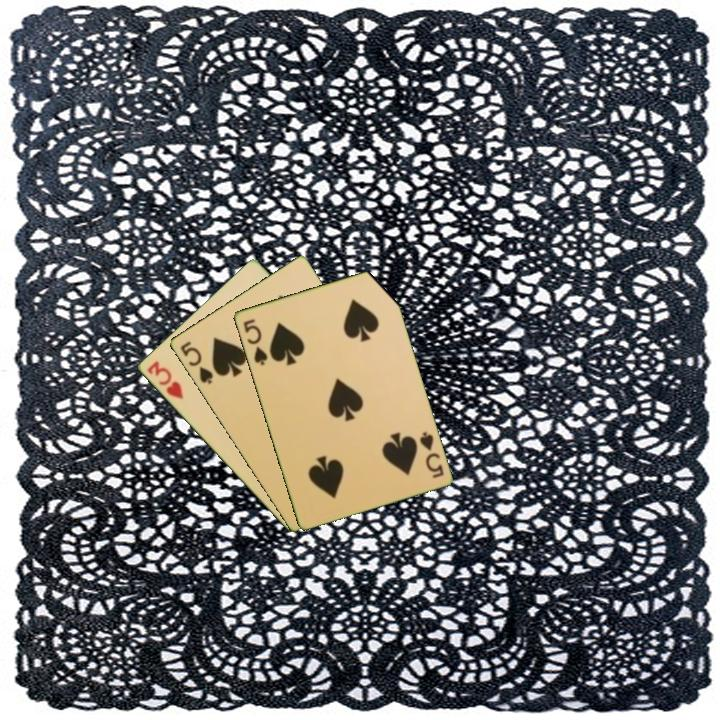3h: (143, 357, 186, 402)
5s: (176, 338, 216, 387), (239, 315, 270, 368), (416, 428, 446, 481)
